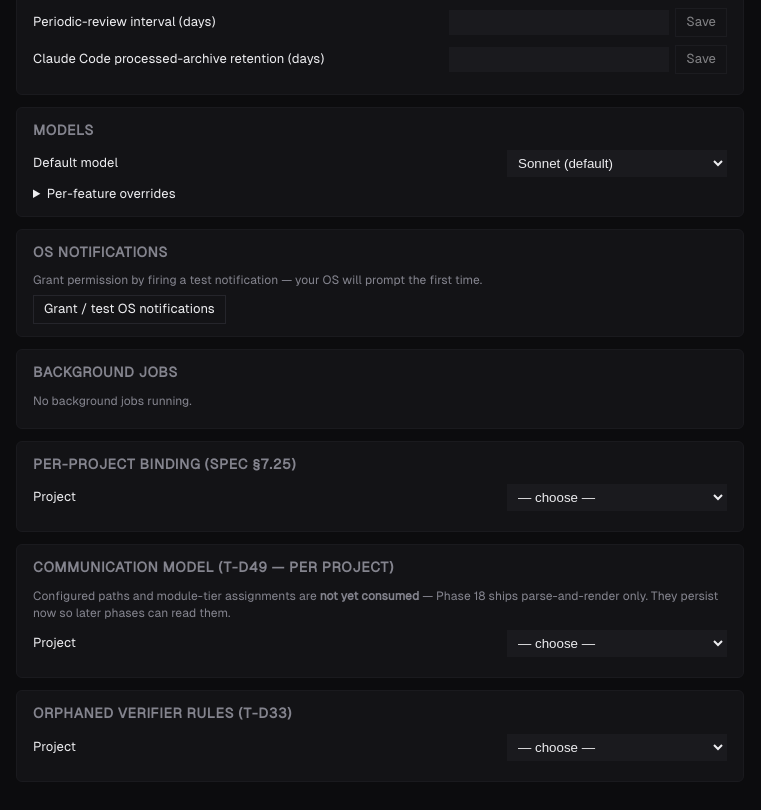
Test: Phase 15 — settings panel (SPEC §7.25) › renders bootstrap-review block with stale count from the GET endpoint
(page scrolled)
Select "demo" in the dropdown with test id "project-select". click: (617, 498)
box: [507,484,727,511]
(page scrolled)
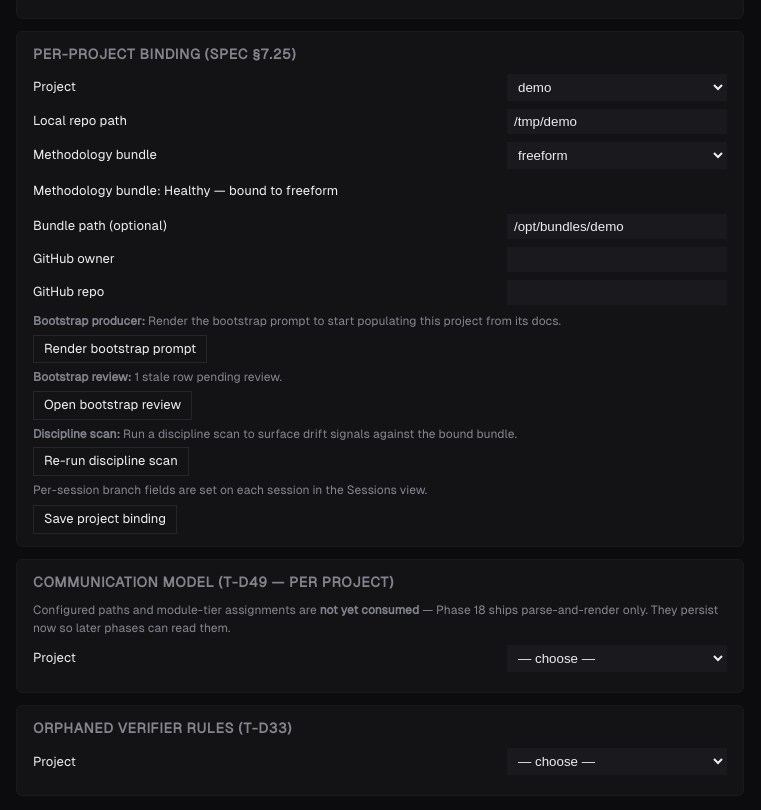
expect the element with test id "bootstrap-review-block" shows "1 stale row pending review": met, box [134,370,282,384]
expect the button with test id "bootstrap-review-open" is enabled: met, box [33,391,192,420]
